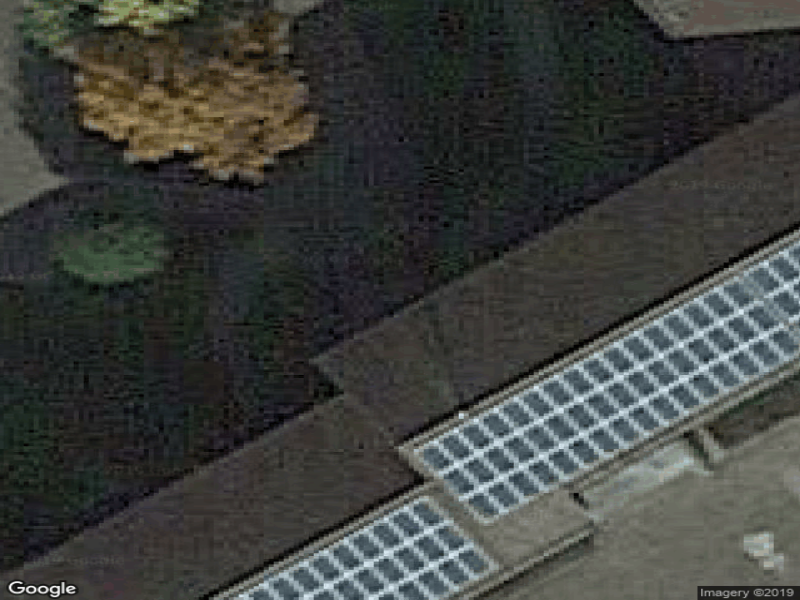pv: (418, 238, 800, 524), (214, 500, 499, 597)
